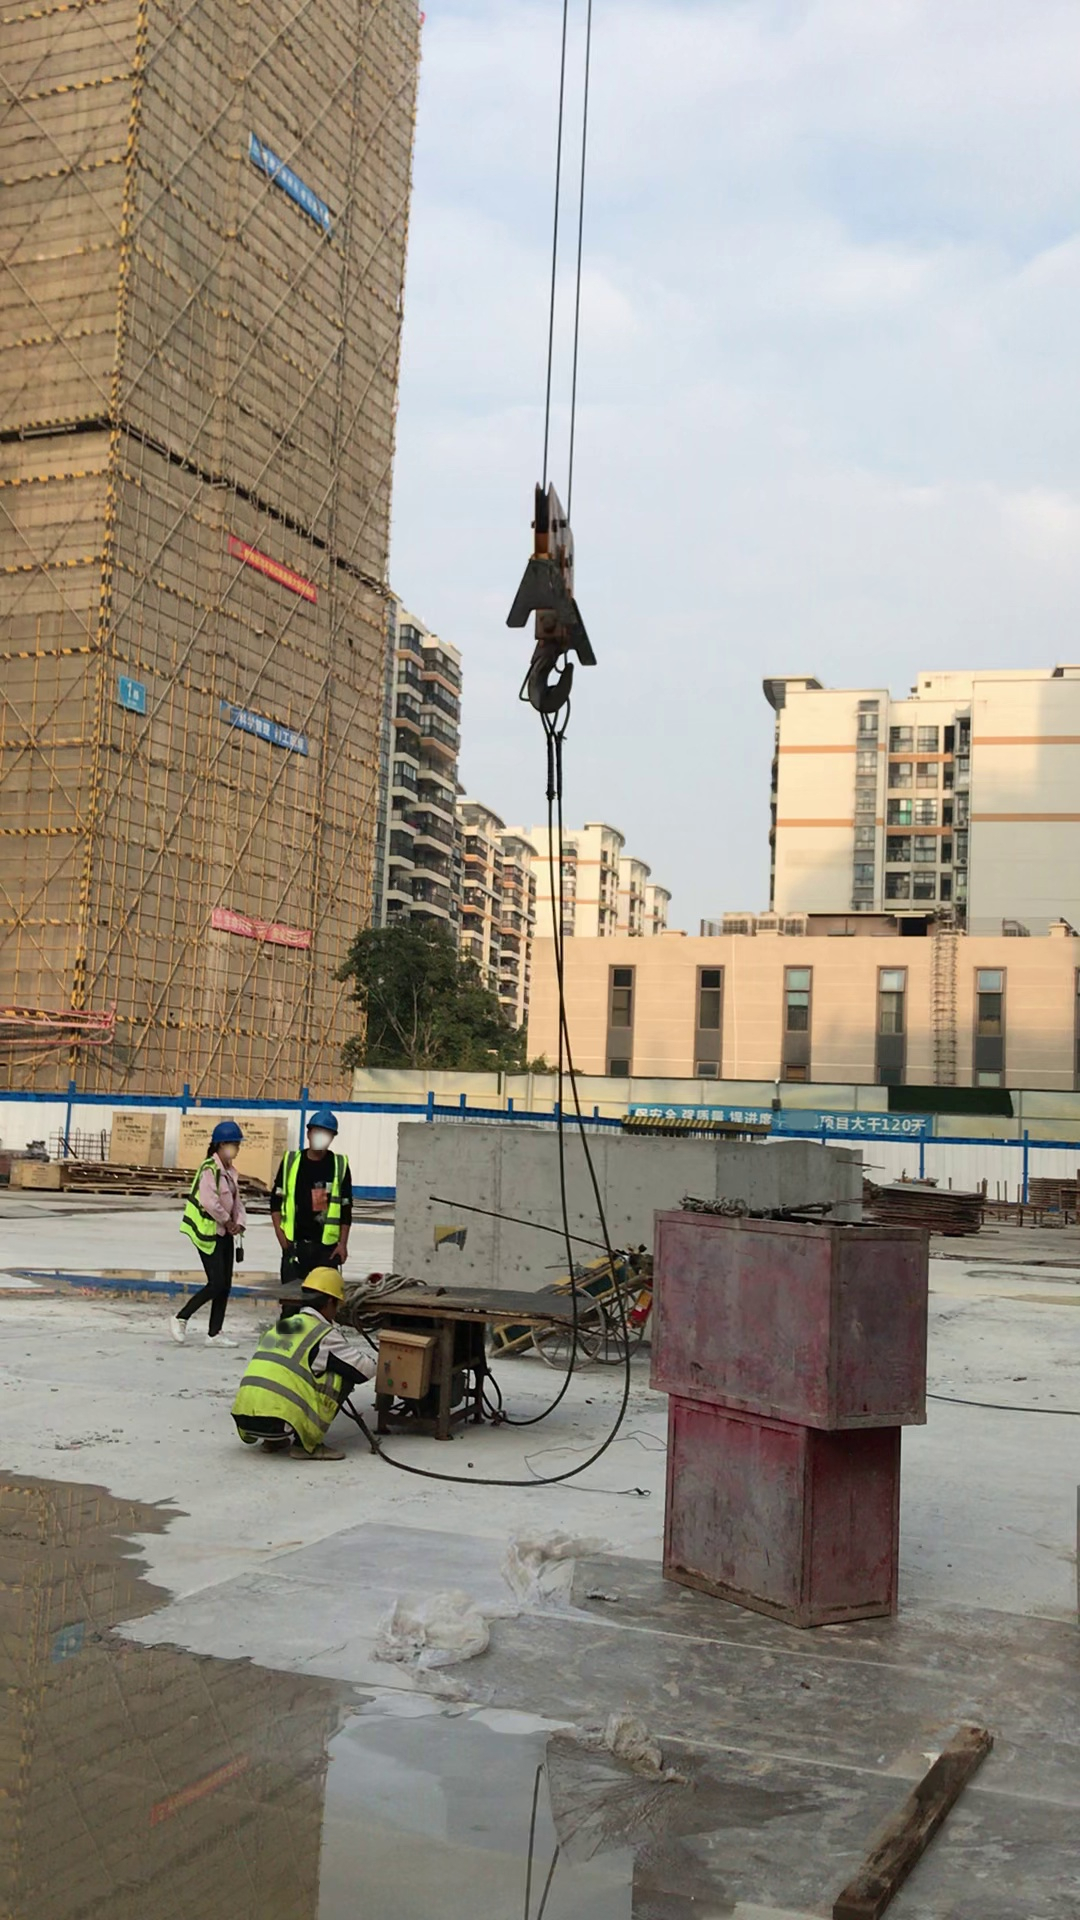cutter: (283, 1247, 581, 1439)
helmet: (304, 1265, 342, 1298), (207, 1120, 245, 1144), (308, 1106, 338, 1130)
hook: (505, 482, 601, 751)
person: (233, 1263, 381, 1452), (174, 1113, 247, 1351), (277, 1103, 350, 1308)
slogan: (249, 129, 331, 236), (230, 530, 319, 605), (223, 704, 306, 761), (212, 907, 314, 952)
vest: (237, 1313, 362, 1444), (283, 1142, 346, 1244), (181, 1145, 233, 1246)
